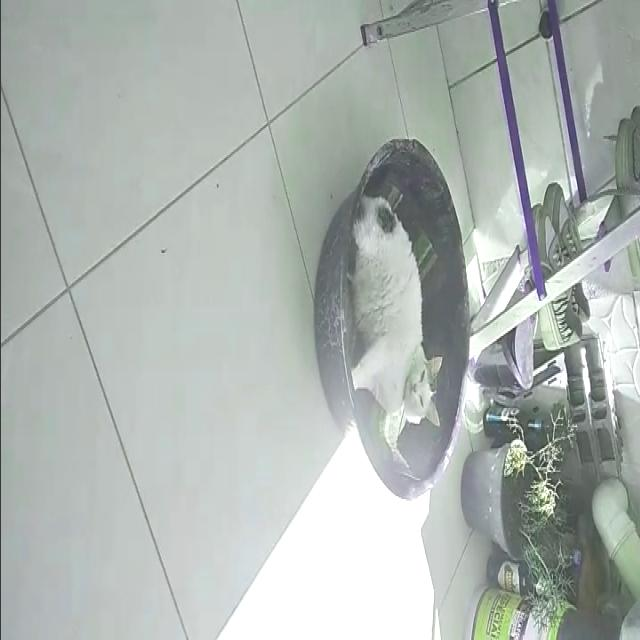Simba: (351, 192, 449, 476)
